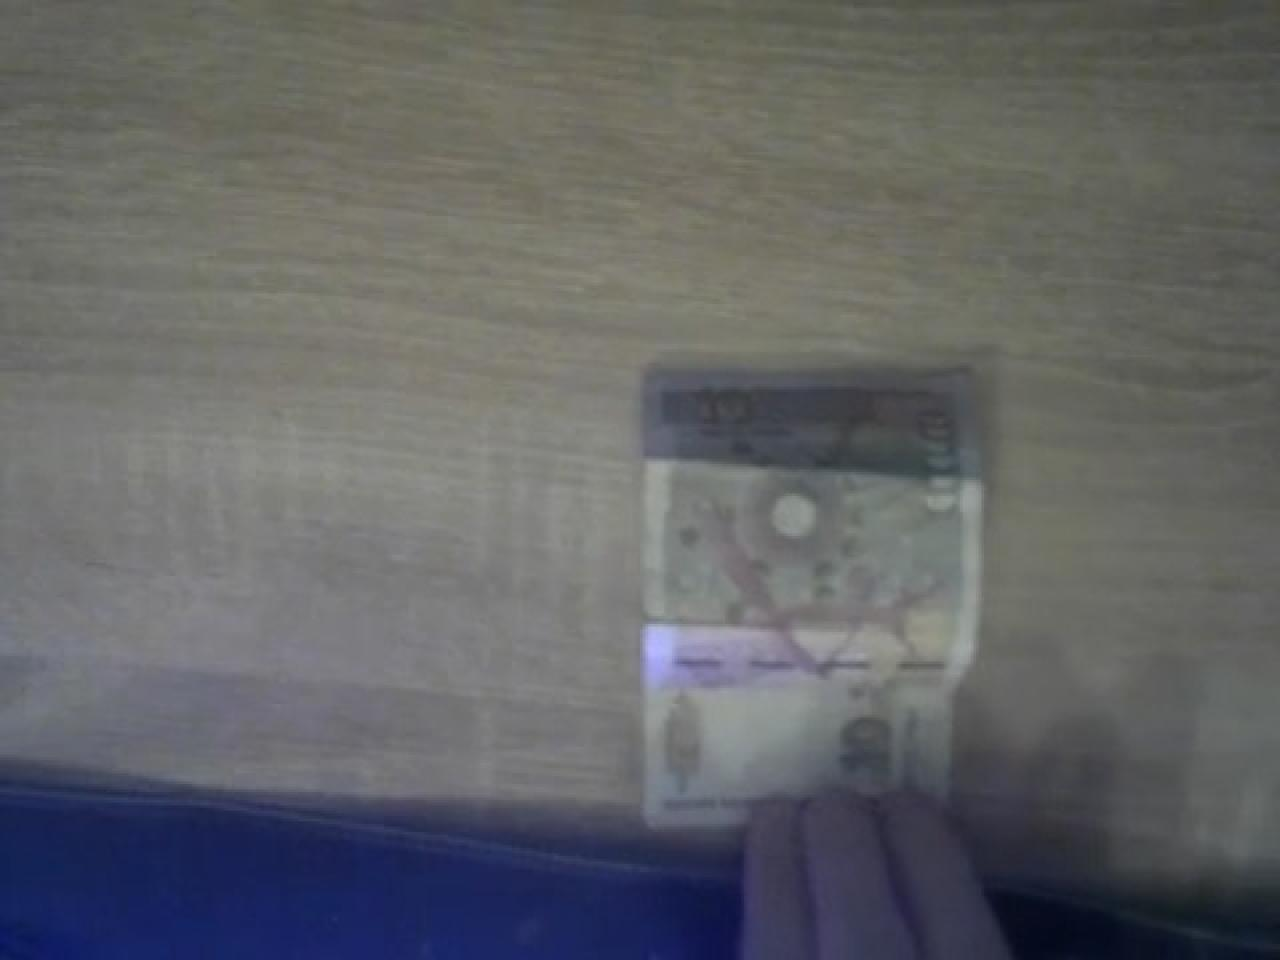10leva: (637, 365, 990, 827)
